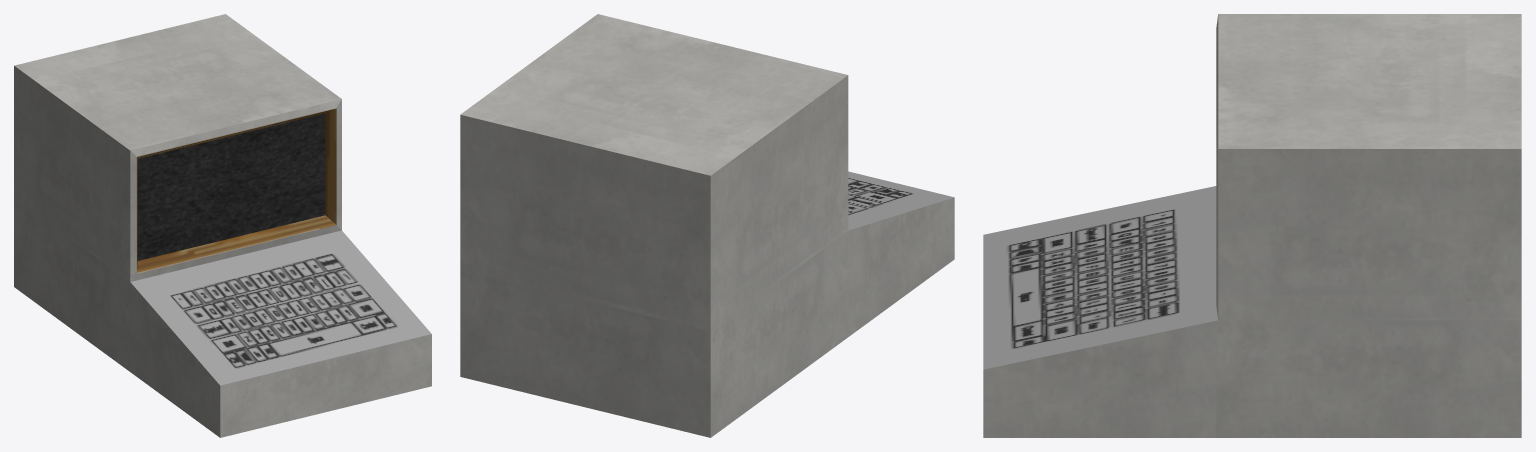
The model's file is MKU_file_computer_fin.fbx.
3 views of the same model, side by side, from view 1: azimuth 30°, elevation 25°; view 2: azimuth 150°, elevation 25°; view 3: azimuth 270°, elevation 25° (orthographic). The views are drawn at different scales.
Visible parts, largest first — view 1: Cube.001; view 2: Cube.001; view 3: Cube.001.
Boxes of the visible parts, x1,y1,x2,y2 form: Cube.001: (14,14,431,437); Cube.001: (460,14,954,437); Cube.001: (983,14,1521,437).
Bounding box in the file's own units: 200 × 200 × 337.
